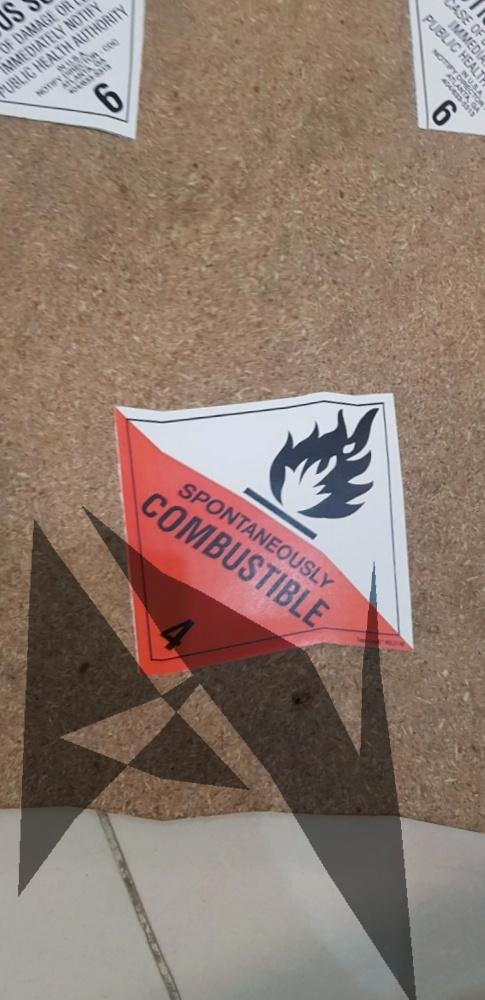explosive: (116, 388, 429, 683)
infectious-substance: (1, 1, 141, 146), (416, 1, 485, 149)
